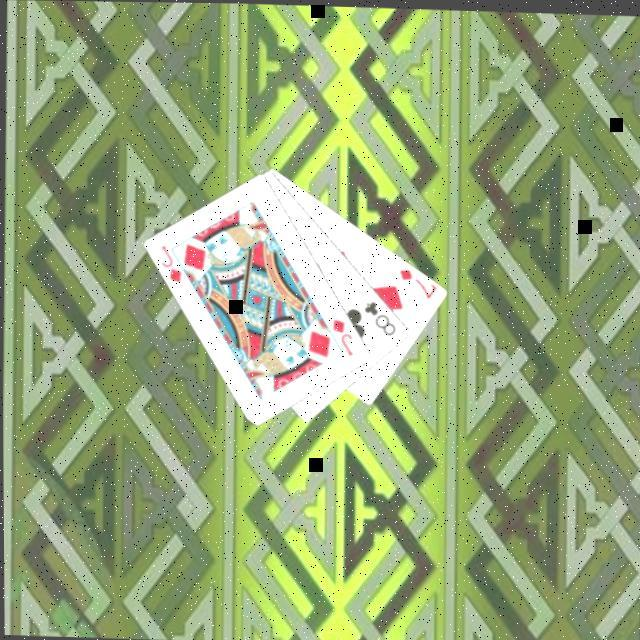7D: (394, 261, 436, 299)
8C: (358, 294, 397, 336)
JD: (154, 239, 183, 283), (326, 312, 354, 356)
